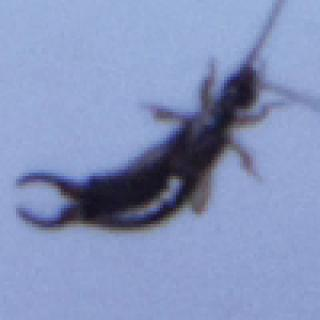earwig: (13, 0, 320, 234)
